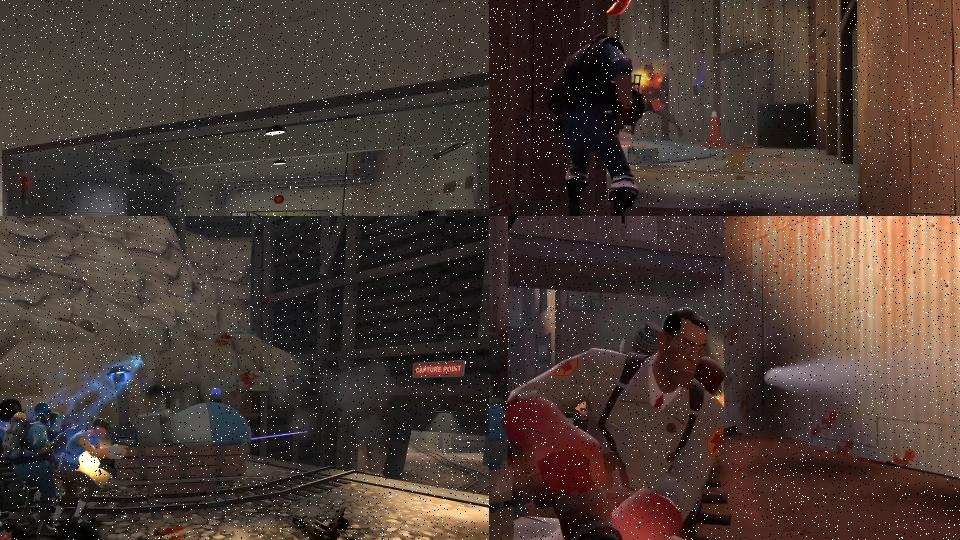Enemy: (489, 307, 755, 540), (543, 29, 645, 216), (47, 416, 134, 529), (1, 406, 65, 535), (624, 63, 684, 136)
